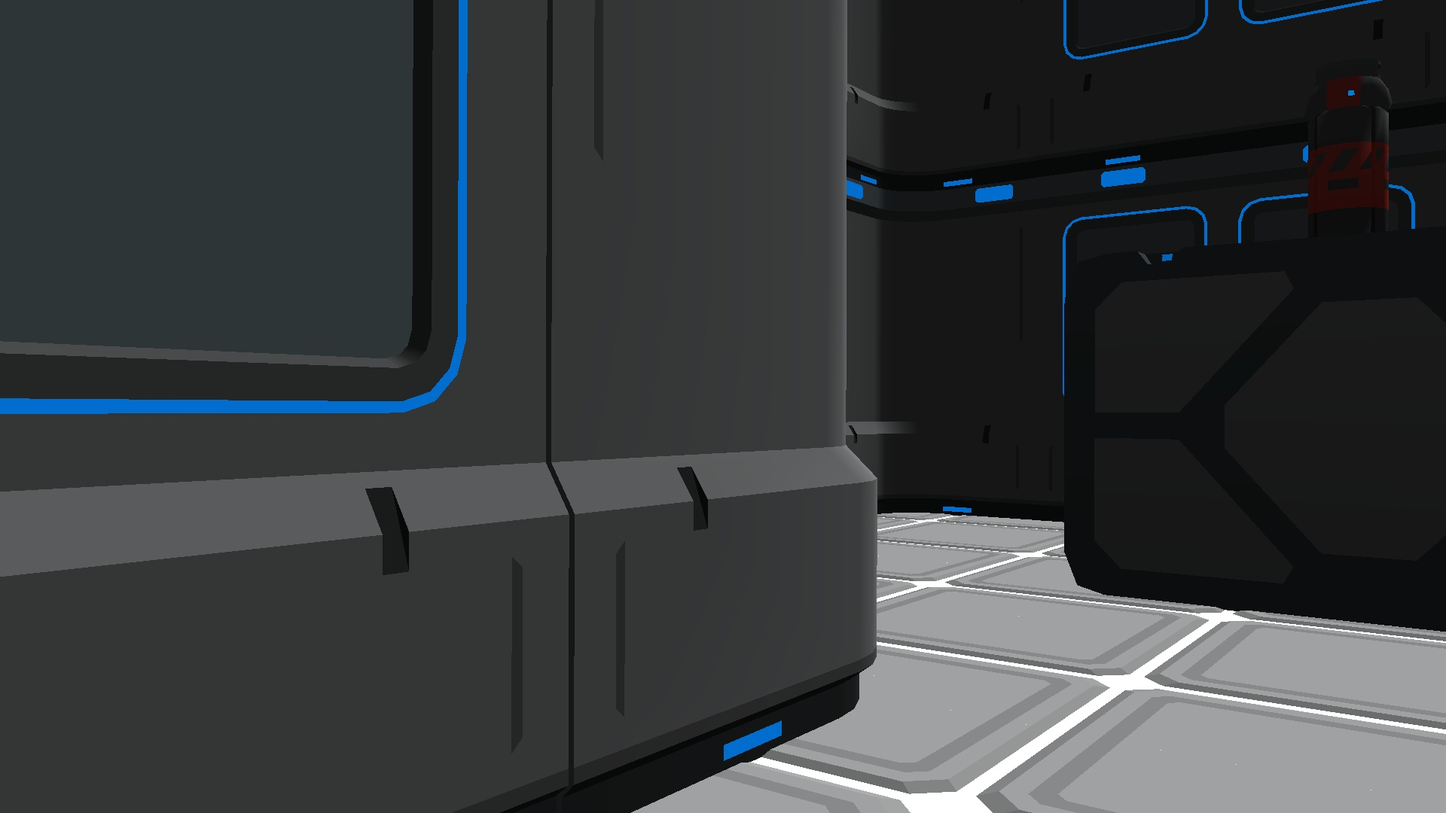red barrel: (1309, 75, 1392, 239)
